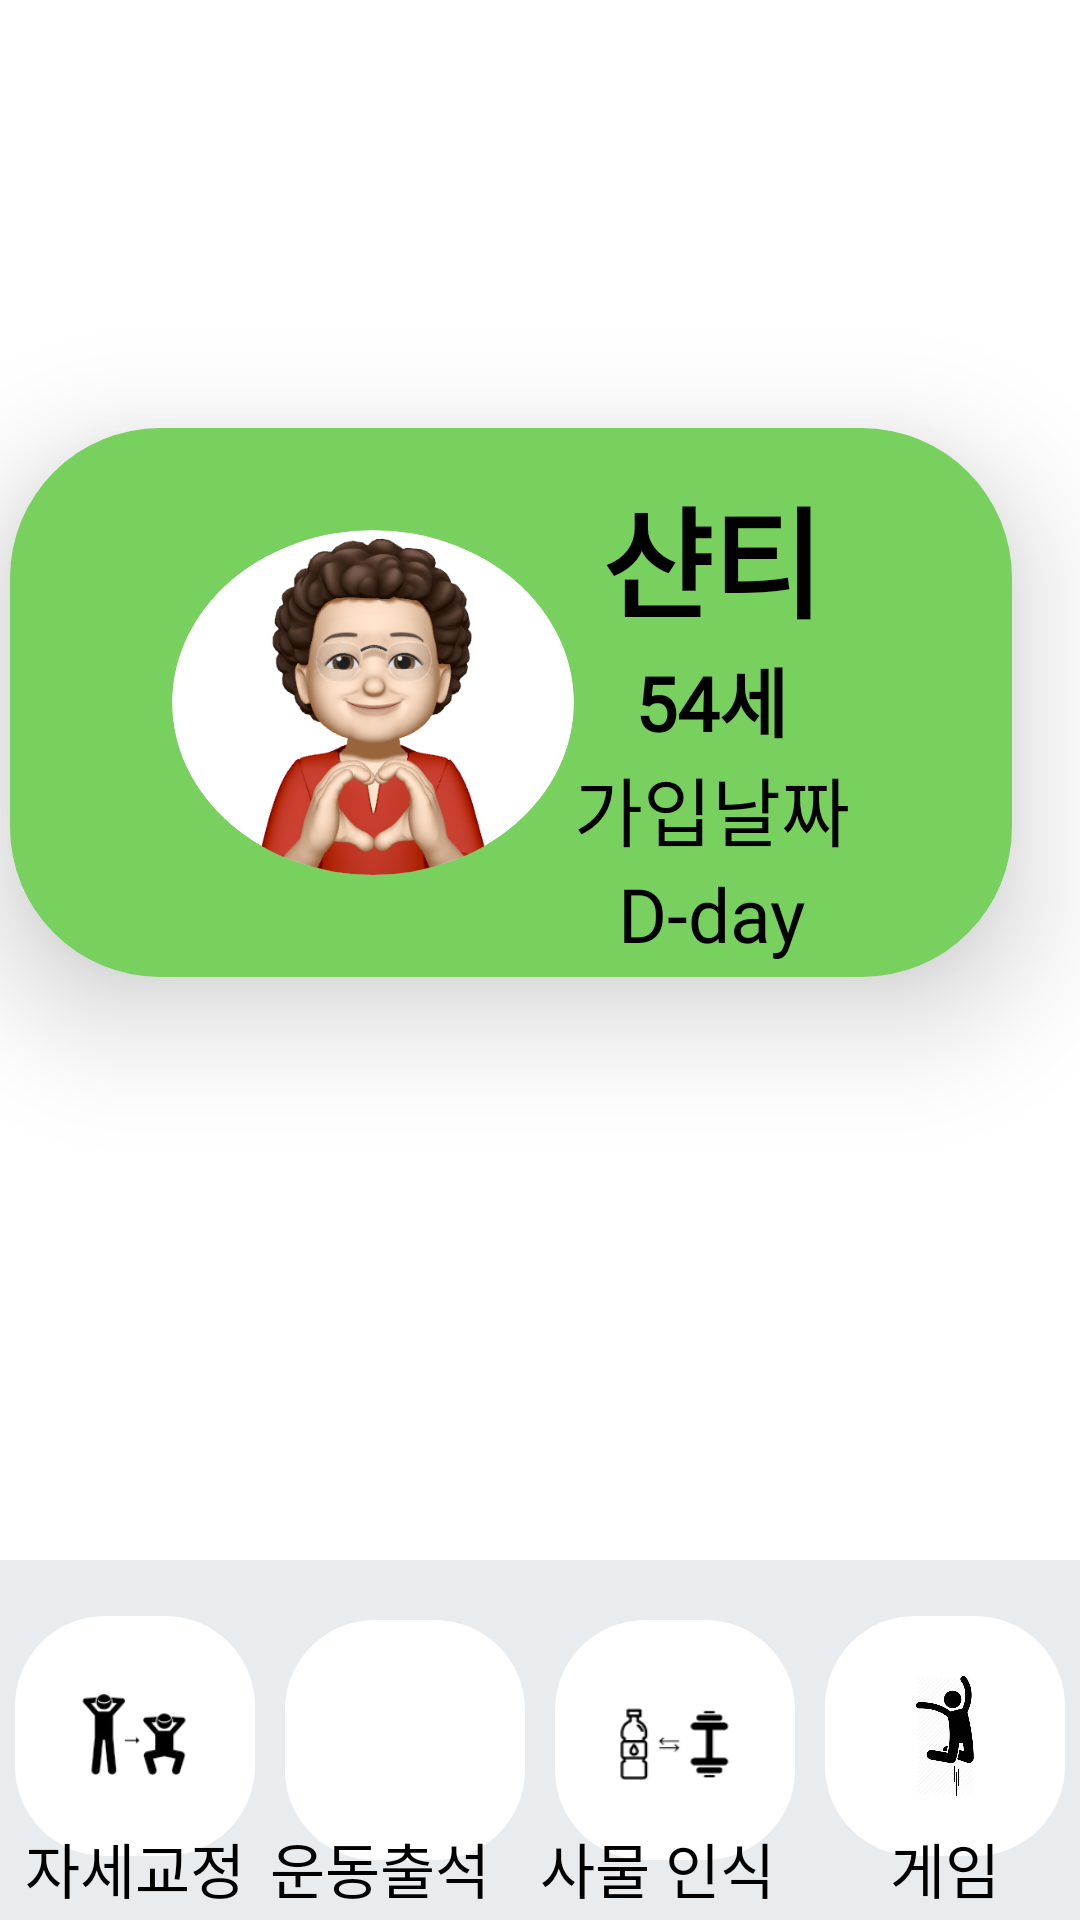

Named icons in this screenshot (1080 x 1920) and their bounding boxes, BBox(x1, y1, x2, y2):
exercise: BBox(82, 1694, 186, 1775)
game: BBox(916, 1676, 974, 1796)
object: BBox(620, 1708, 729, 1780)
